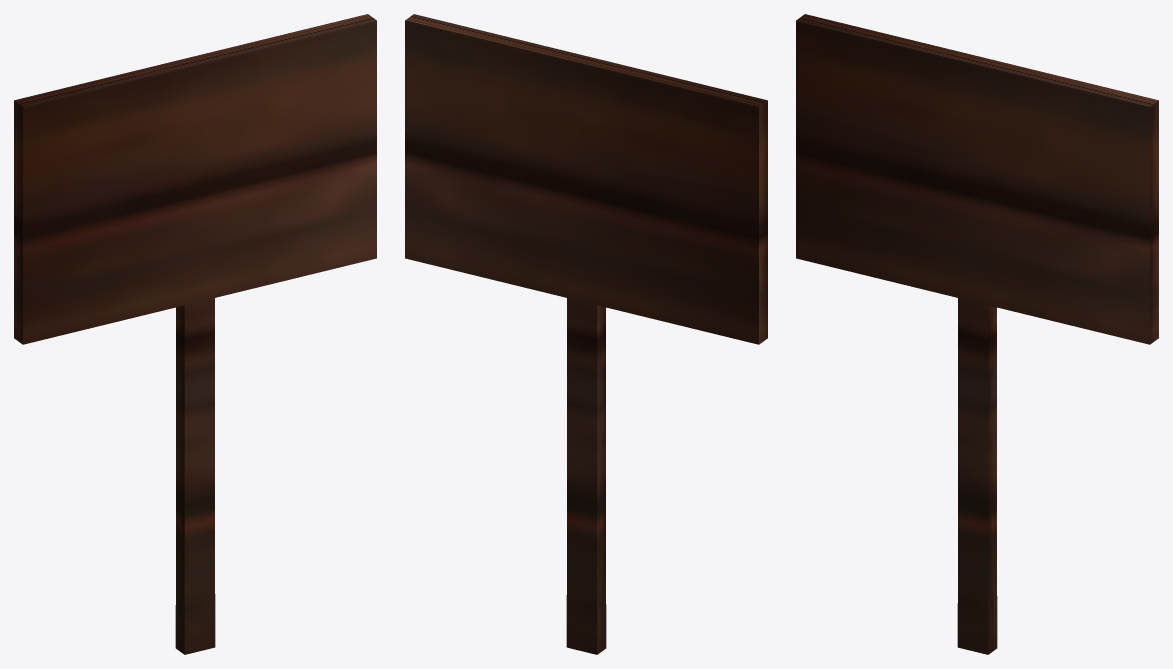
Rendered from Tablet.fbx.
3 views of the same model, side by side, from view 1: azimuth 30°, elevation 25°; view 2: azimuth 150°, elevation 25°; view 3: azimuth 330°, elevation 25° (orthographic).
Visible parts, largest first — view 1: Tablet; view 2: Tablet; view 3: Tablet.
Boxes of the visible parts, box(x1,y1,x2,y2) form: Tablet: box(14, 14, 376, 654); Tablet: box(405, 14, 767, 654); Tablet: box(796, 14, 1158, 654).
Size of the model in its own units: 311 by 494 by 13.59.
